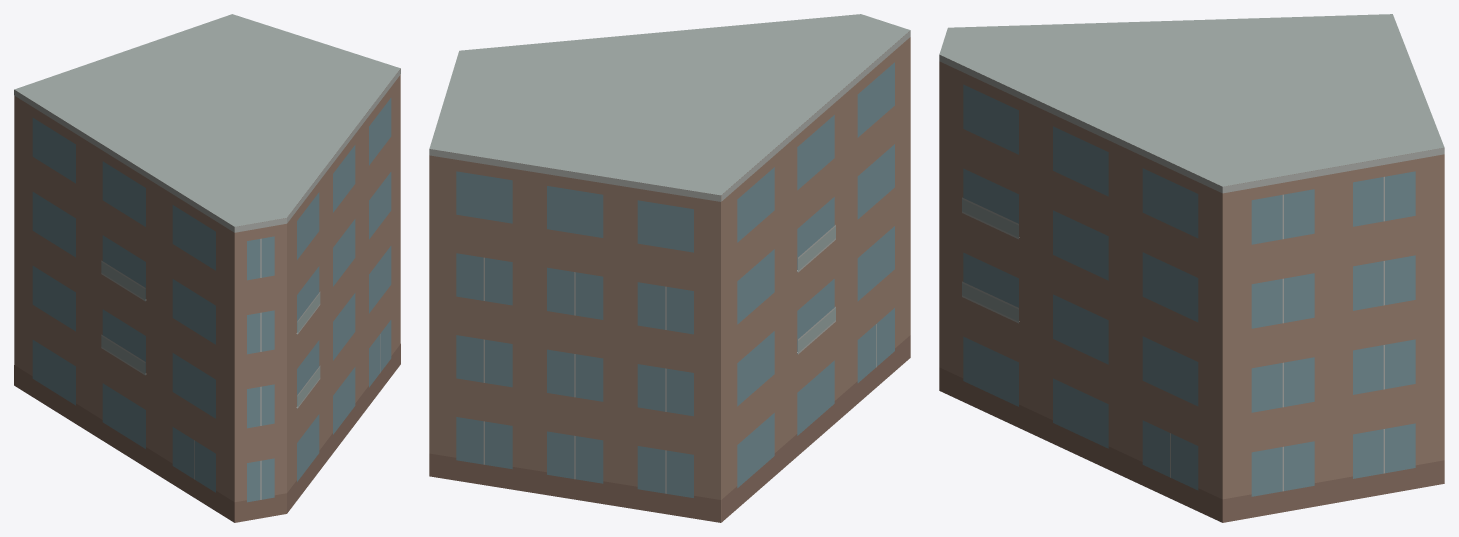
Rendered from survey-upis-32784027.glb.
3 renders of one model, left to right at view 1: azimuth 30°, elevation 25°; view 2: azimuth 150°, elevation 25°; view 3: azimuth 270°, elevation 25°, orthographic. The views are drawn at different scales.
Visible parts, largest first — view 1: survey-upis-32784027.tmp; view 2: survey-upis-32784027.tmp; view 3: survey-upis-32784027.tmp.
Part boxes in pixels (left/top/right/bottom): survey-upis-32784027.tmp: left=14, top=14, right=400, bottom=522; survey-upis-32784027.tmp: left=429, top=14, right=910, bottom=522; survey-upis-32784027.tmp: left=939, top=14, right=1444, bottom=522.
Bounding box in the file's own units: 13.45 × 12.2 × 16.63.
